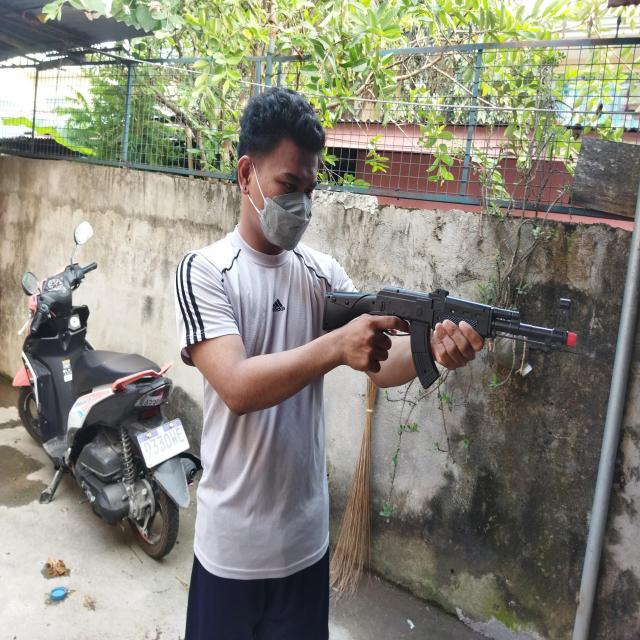rifle: (320, 286, 575, 389)
